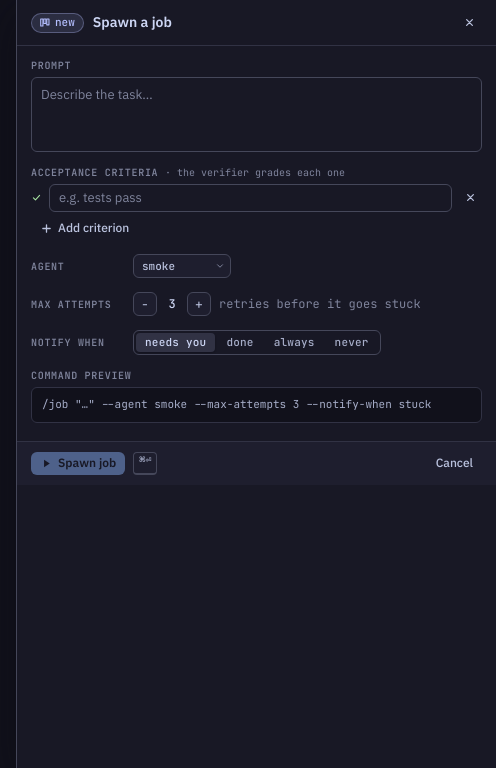
the command preview reflects the live form state
Step 1. Type "backfill usage rollups" into the text box with test id "new-job-prompt" → (256, 114), box [31,77,482,152]
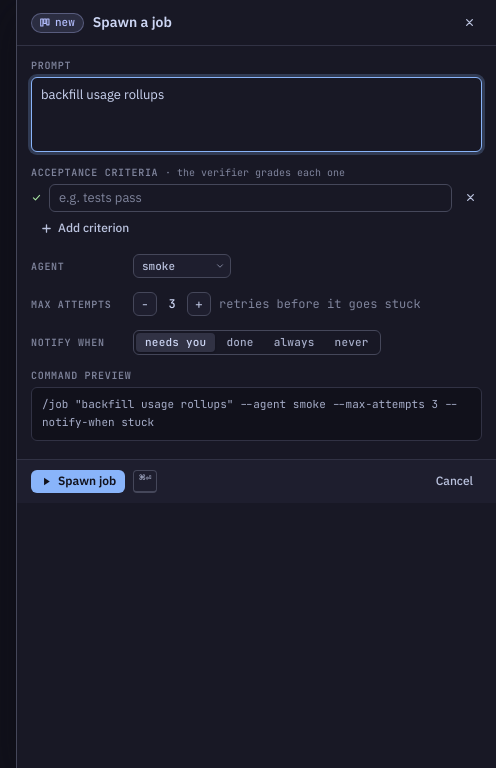
Expected: the text with test id "new-job-preview" shows "--agent smoke", [42,397,458,429]
Expected: the text with test id "new-job-preview" shows "/job \"backfill usage rollups\"", [42,397,458,429]
